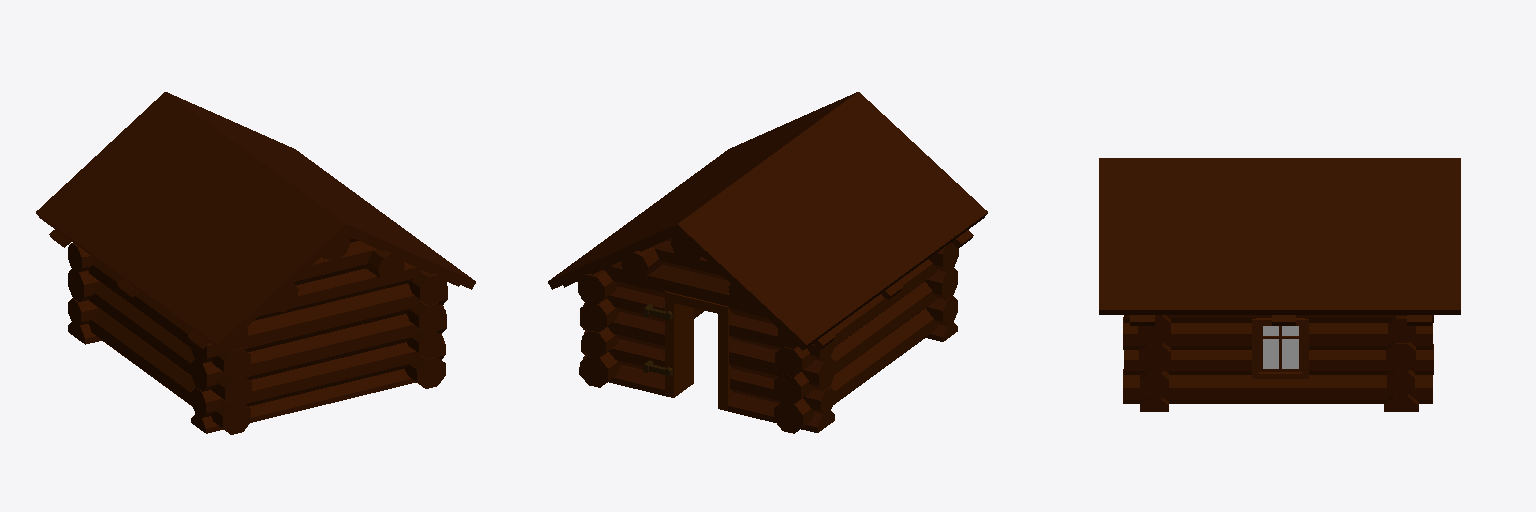
Rendered from walls.obj.
3 views of the same model, side by side, from view 1: azimuth 30°, elevation 25°; view 2: azimuth 150°, elevation 25°; view 3: azimuth 270°, elevation 25° (orthographic).
Visible parts, largest first — view 1: House_Cylinder.057; view 2: House_Cylinder.057; view 3: House_Cylinder.057.
Boxes of the visible parts, box(x1,y1,x2,y2) form: House_Cylinder.057: box(36, 92, 475, 434); House_Cylinder.057: box(548, 92, 987, 433); House_Cylinder.057: box(1099, 158, 1460, 411).
Bounding box in the file's own units: 6.02 × 4.31 × 7.21.